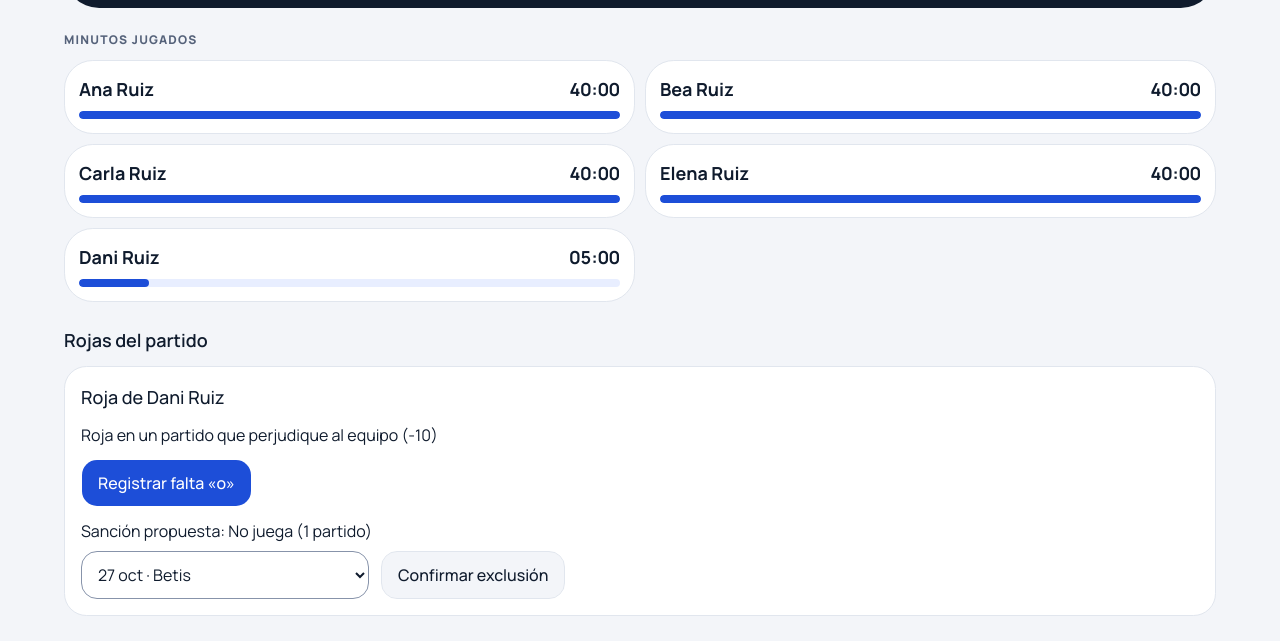
Test: rojas en el resumen del partido › preselecciona el primer partido siguiente y pide elegir si se quita
(page scrolled)
Select "Selecciona el partido" in the dropdown named "Partido de la exclusión de Dani Ruiz" at (225, 575), box [81,551,369,599]
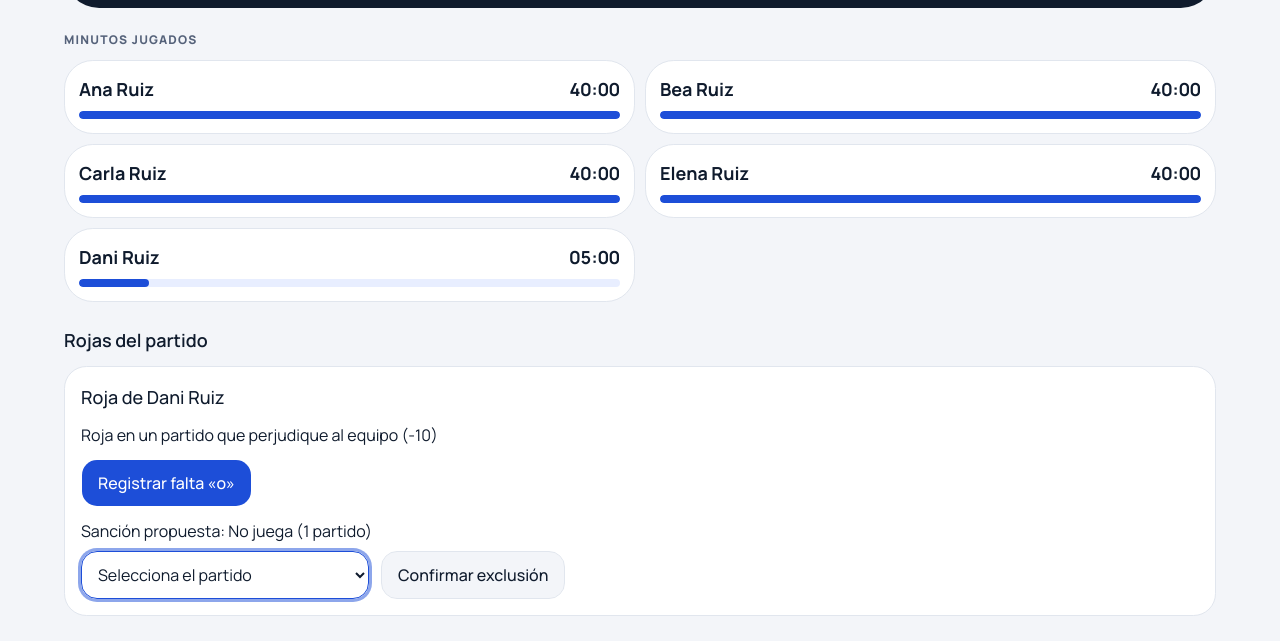
Click the button with aria-label "Confirmar exclusión de Dani Ruiz" at (473, 575), box [381,551,565,599]
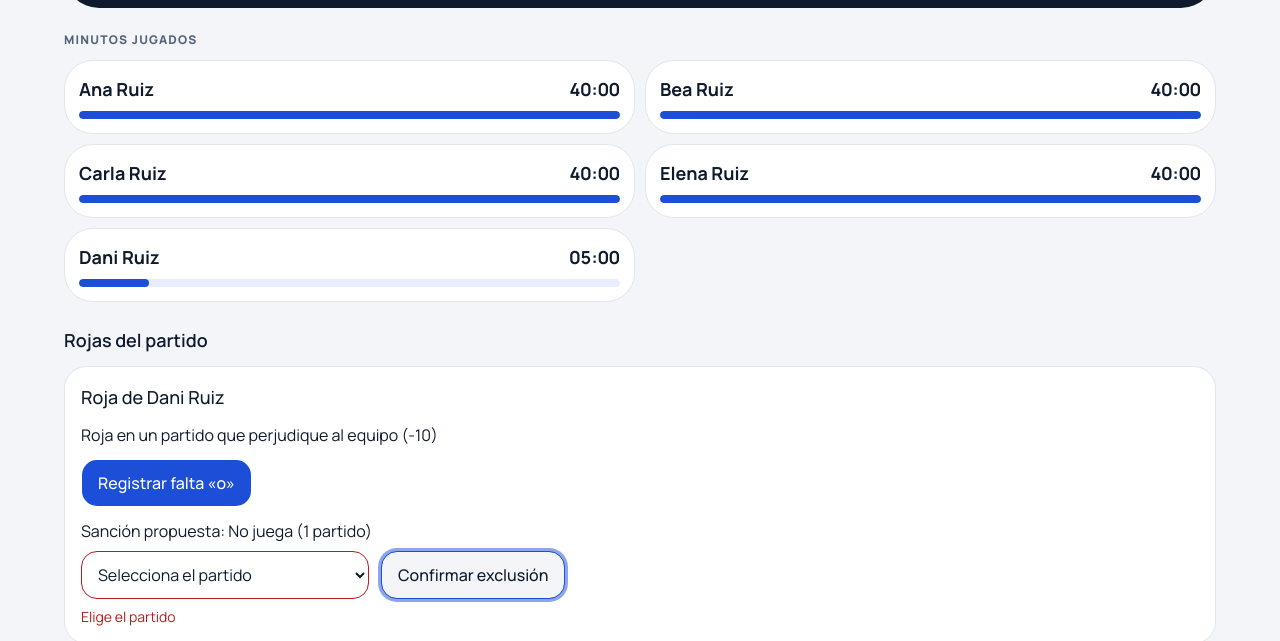
Check: the text "Elige el partido" is shown, box [81,607,176,626]
